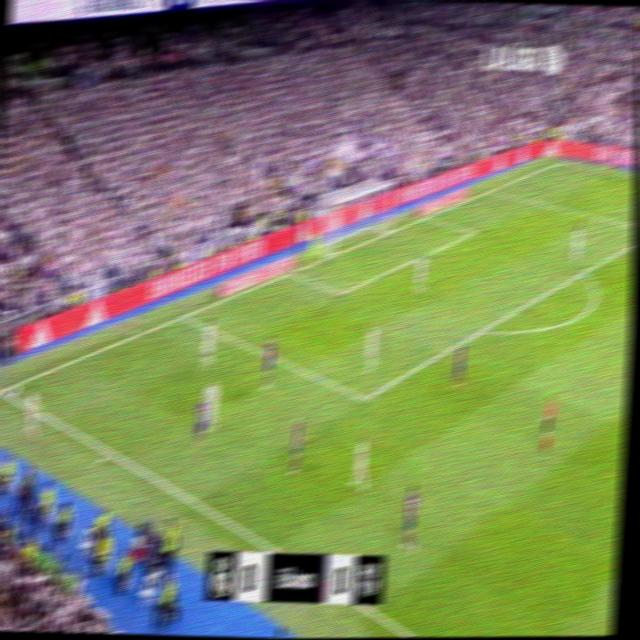bigarea_bottom_inner: (357, 387, 370, 409)
bigarea_bottom_outter: (176, 306, 190, 324)
bigarea_top_outter: (486, 183, 497, 195)
bottom_arc_area_intersection: (473, 320, 488, 339)
corner: (554, 155, 565, 165)
smallarea_bottom_inner: (334, 282, 348, 301)
smallarea_bottom_outter: (285, 265, 296, 279)
smallarea_top_inner: (468, 226, 476, 237)
top_arc_area_intersection: (575, 264, 589, 280)
